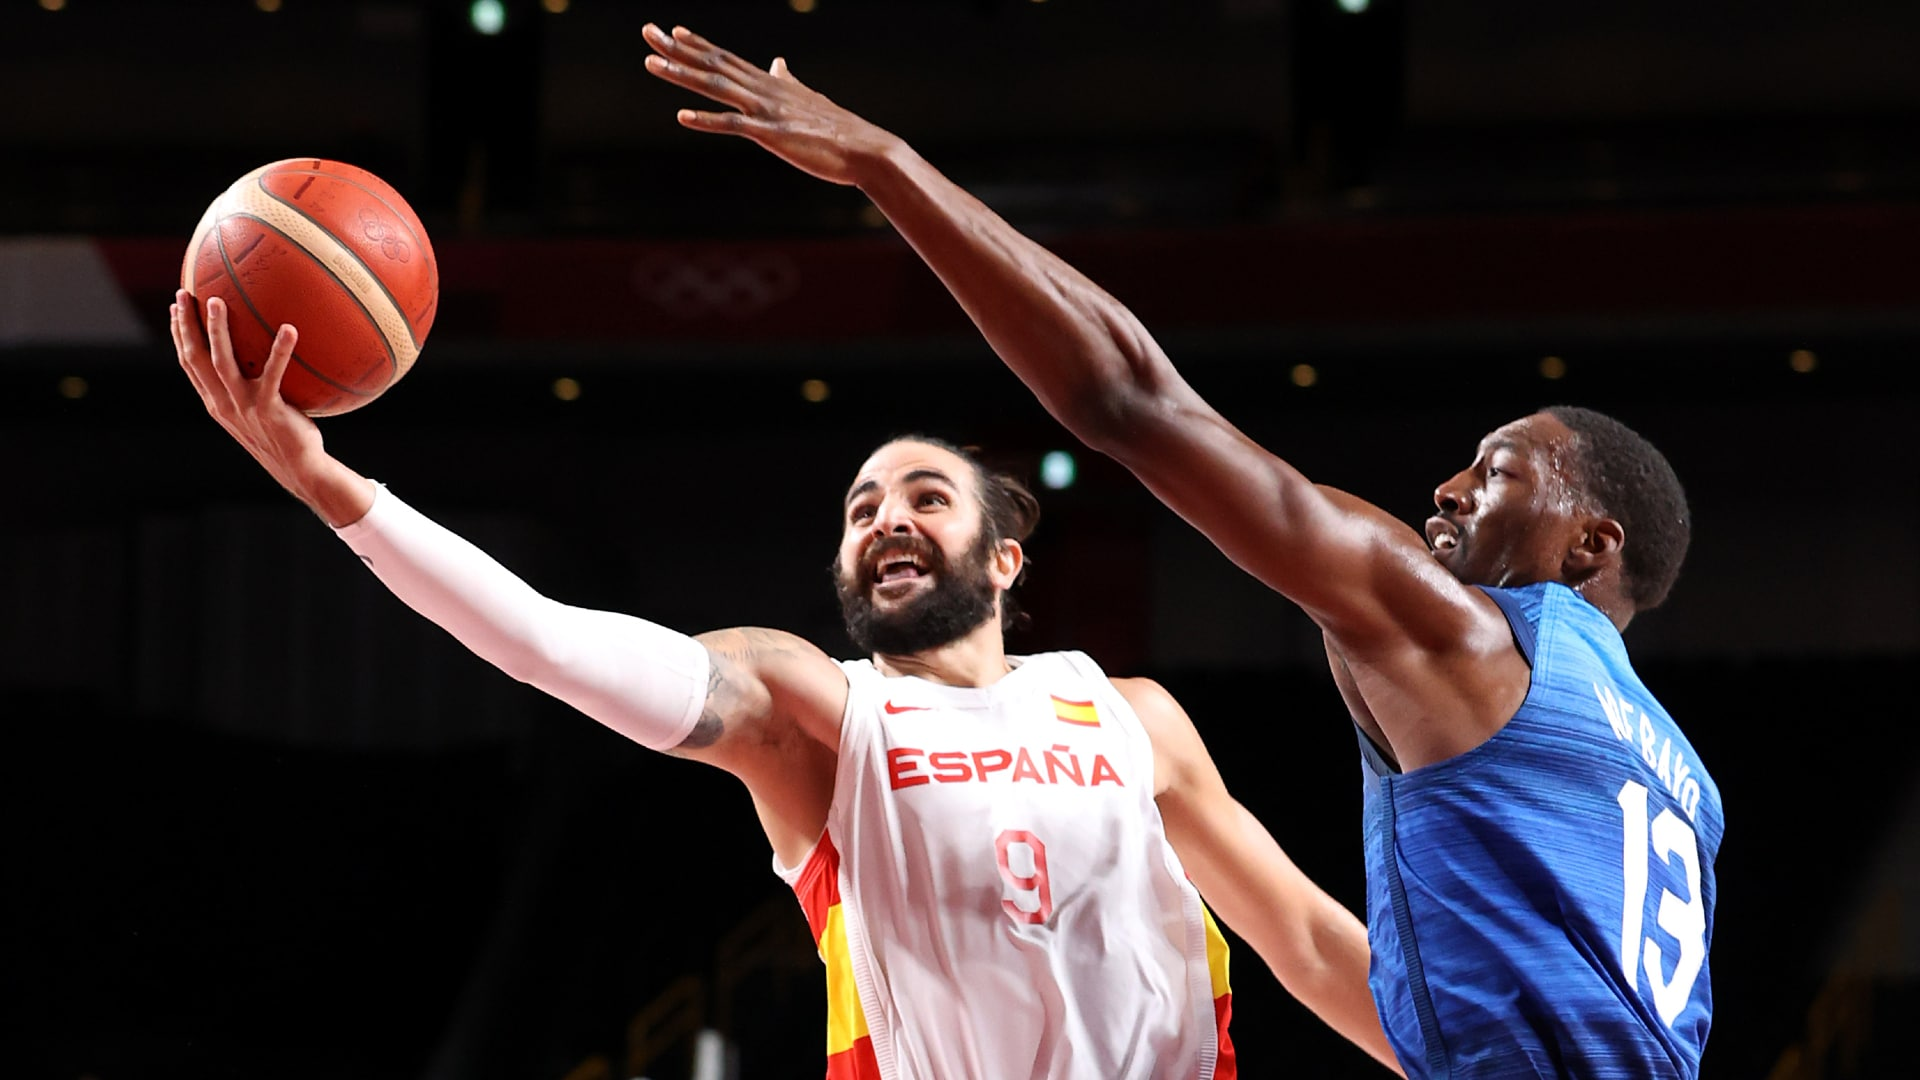basketball: (167, 151, 448, 424)
spain_player: (756, 417, 1264, 1080)
usa_player: (1323, 402, 1721, 1080)
